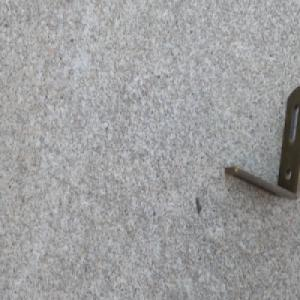MetalPart: (223, 86, 300, 203)
